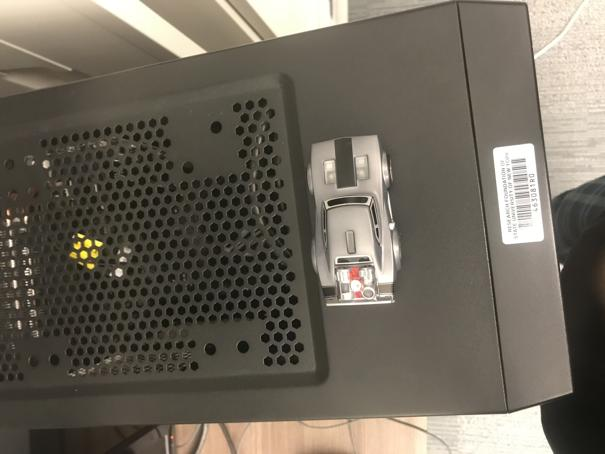Charger: (305, 132, 406, 306)
